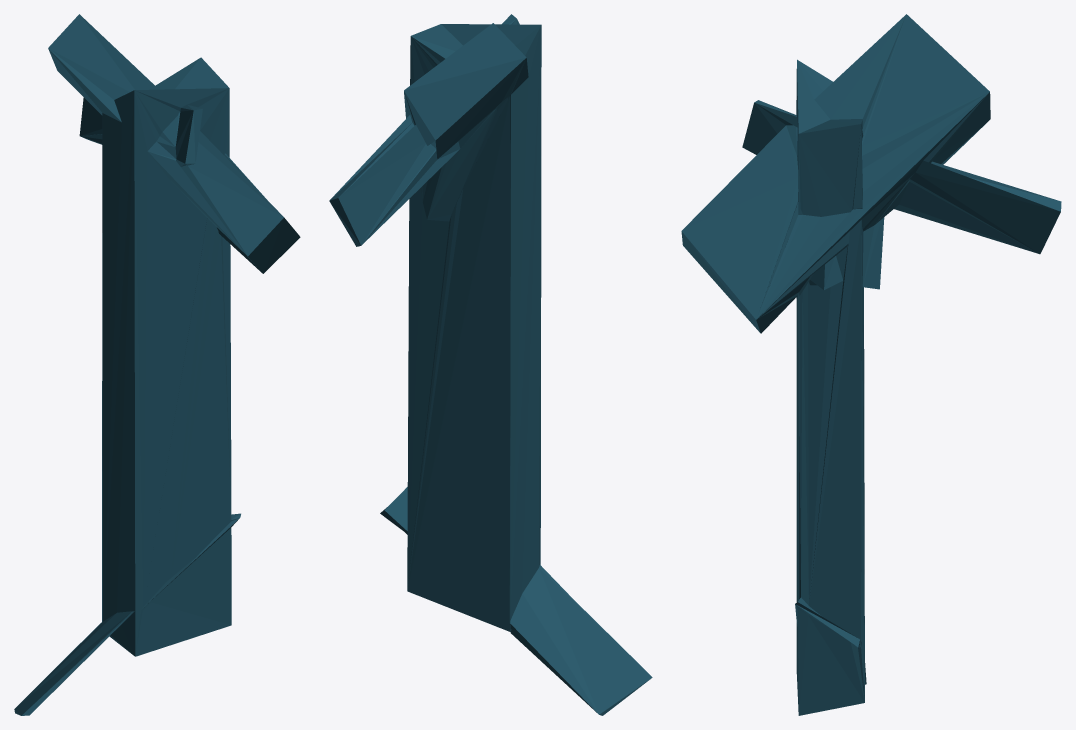
The picture shows the model from 3 angles, left to right: view 1: azimuth 30°, elevation 25°; view 2: azimuth 150°, elevation 25°; view 3: azimuth 270°, elevation 25°; orthographic projection. The views are drawn at different scales.
Visible parts, largest first — view 1: 864_Cube.3490; view 2: 864_Cube.3490; view 3: 864_Cube.3490.
Part boxes in pixels (<box>): 864_Cube.3490: <box>14,14,300,715</box>; 864_Cube.3490: <box>329,14,652,715</box>; 864_Cube.3490: <box>681,14,1061,715</box>.
Bounding box in the file's own units: 6.05 × 14.9 × 7.16.
